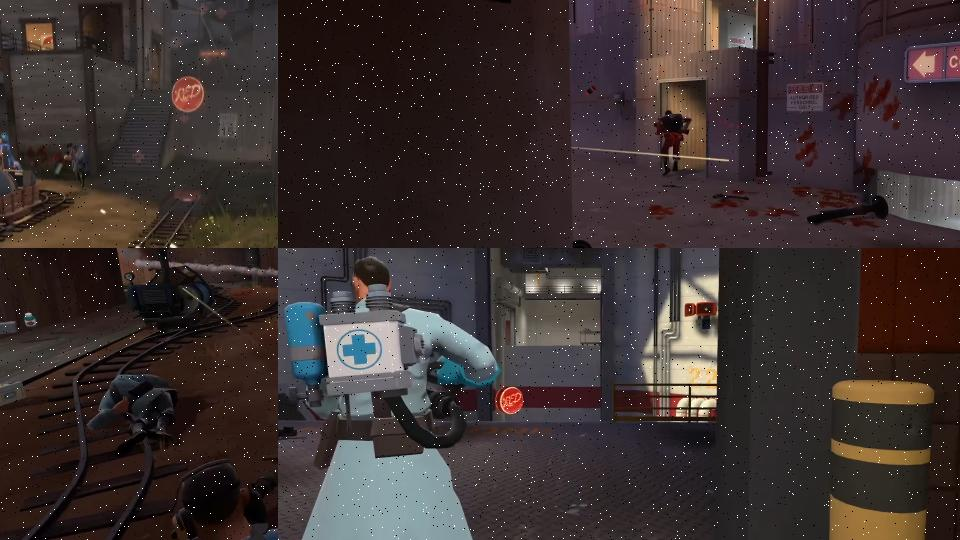Enemy: (278, 255, 499, 540), (161, 457, 278, 540), (87, 372, 180, 457), (652, 107, 697, 168), (64, 142, 87, 189)
